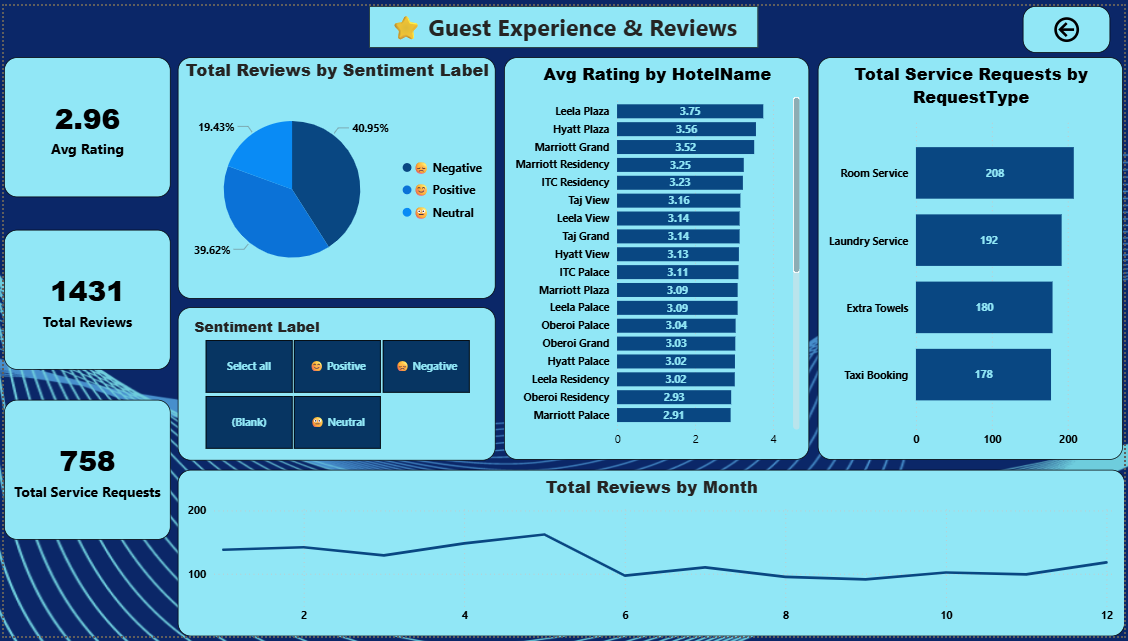

Layout of this report page (visuals, bound fields, positions):
{"tool":"powerbi","page":{"name":"Guest Experience","canvas":[1280,720],"ordinal":2},"visuals":[{"type":"textbox","box":[417,0,445.1,47.7],"z":0},{"type":"card","fields":{"Values":["Hotel Bookings.Avg Rating"]},"box":[0,59.2,190.4,160.1],"z":1000},{"type":"card","fields":{"Values":["Guest Reviews.Total Reviews"]},"box":[0,255.4,190.4,160.1],"z":2000},{"type":"card","fields":{"Values":["Guest Service Requests.Total Service Requests"]},"box":[0,450.1,190.4,160.1],"z":3000},{"type":"pieChart","fields":{"Y":["Guest Reviews.Total Reviews"],"Category":["Guest Reviews.Sentiment Label"]},"box":[198.1,58.7,363.2,276.4],"z":4000},{"type":"clusteredBarChart","fields":{"Category":["Hotels.HotelName"],"Y":["Hotel Bookings.Avg Rating"]},"box":[571.3,59.2,349.1,460.2],"z":5000},{"type":"clusteredBarChart","fields":{"Category":["Guest Service Requests.RequestType"],"Y":["Guest Service Requests.Total Service Requests"]},"box":[930.6,59.2,349.1,460.2],"z":6000},{"type":"lineChart","title":"Total Reviews by Month","fields":{"Y":["Guest Reviews.Total Reviews"],"Category":["Date Table.Month Number"]},"box":[198.1,529.5,1082.2,190.8],"z":7000},{"type":"slicer","fields":{"Values":["Guest Reviews.Sentiment Label"]},"box":[198.1,344.8,363.2,174.9],"z":8000},{"type":"actionButton","box":[1164.1,0,100.3,53.8],"z":8001}]}

Visuals, with their boxes in screenshot pixels (x1, y1, x2, y2), scaled from the page's 1280x720 canvas onto the 1128x641 screenshot:
textbox: {"left": 367, "top": 0, "right": 760, "bottom": 42}
card - Hotel Bookings.Avg Rating: {"left": 0, "top": 53, "right": 168, "bottom": 195}
card - Guest Reviews.Total Reviews: {"left": 0, "top": 227, "right": 168, "bottom": 370}
card - Guest Service Requests.Total Service Requests: {"left": 0, "top": 401, "right": 168, "bottom": 543}
pieChart - Guest Reviews.Total Reviews x Guest Reviews.Sentiment Label: {"left": 175, "top": 52, "right": 495, "bottom": 298}
clusteredBarChart - Hotels.HotelName x Hotel Bookings.Avg Rating: {"left": 503, "top": 53, "right": 811, "bottom": 462}
clusteredBarChart - Guest Service Requests.RequestType x Guest Service Requests.Total Service Requests: {"left": 820, "top": 53, "right": 1127, "bottom": 462}
"Total Reviews by Month" lineChart: {"left": 175, "top": 471, "right": 1127, "bottom": 640}
slicer - Guest Reviews.Sentiment Label: {"left": 175, "top": 307, "right": 495, "bottom": 463}
actionButton: {"left": 1026, "top": 0, "right": 1114, "bottom": 48}
